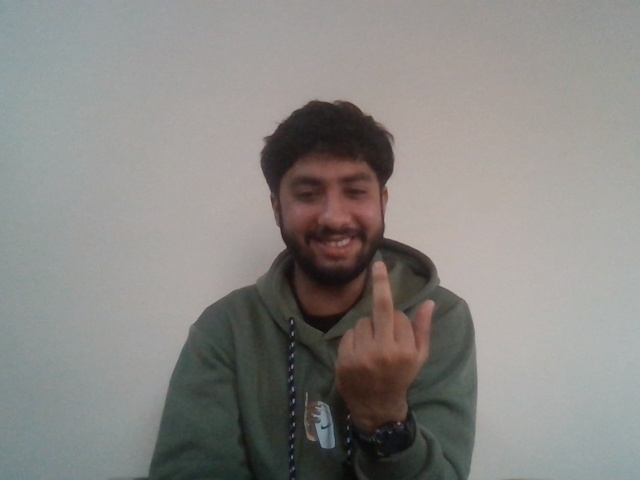Hello: (334, 257, 441, 407)
